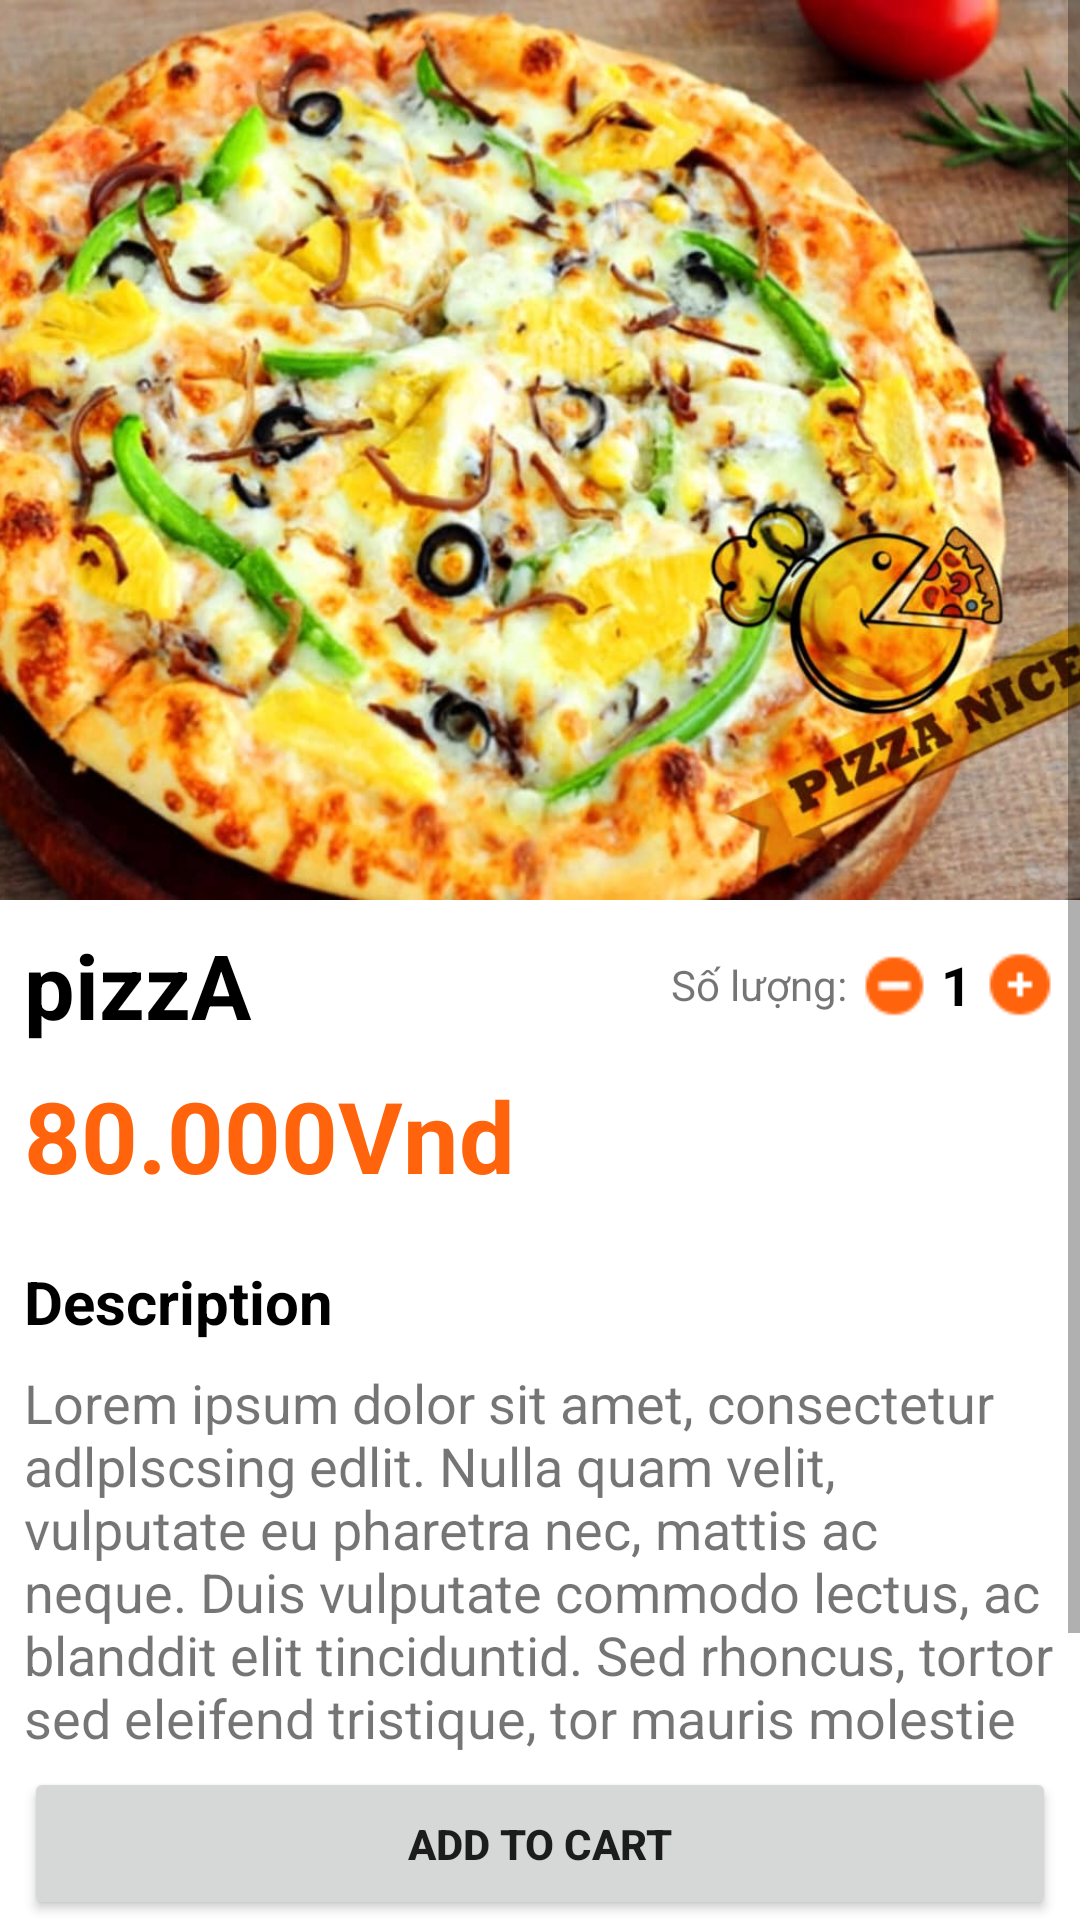

Named icons in this screenshot (1080x1920) and their bounding boxes, (x1,y1,x2,y2):
add: (989,953,1051,1016)
minus: (865,956,924,1016)
